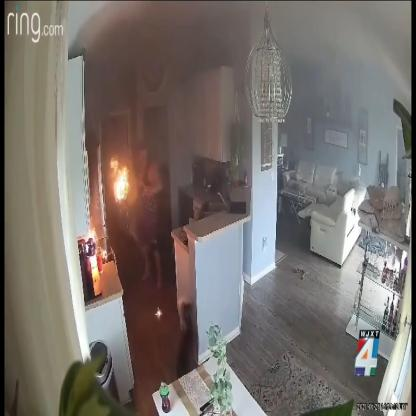fire: (110, 158, 129, 202)
